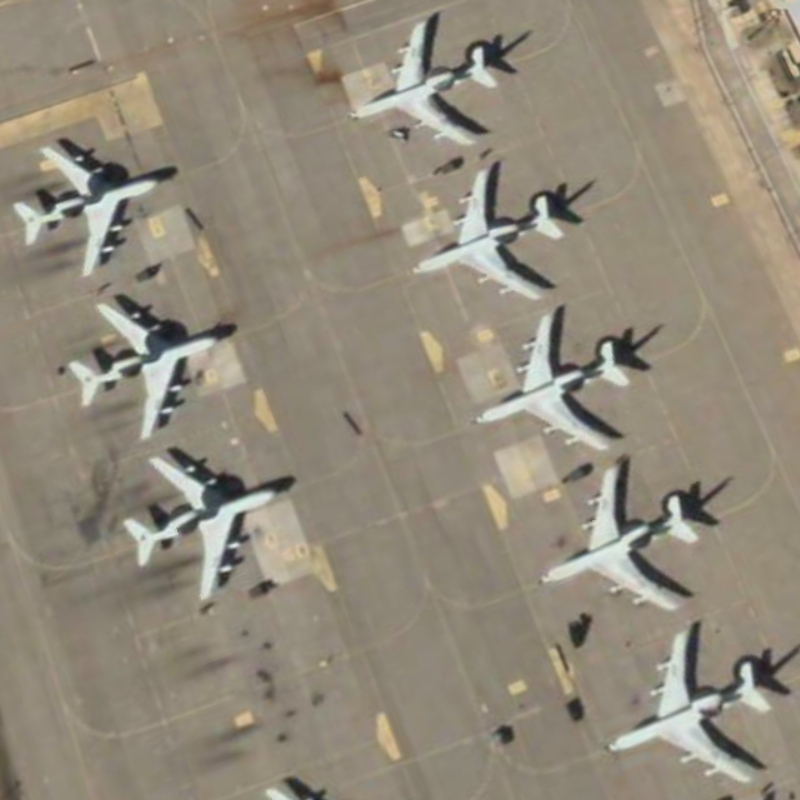A7: (590, 621, 785, 789), (114, 445, 294, 618), (533, 451, 706, 613), (459, 305, 638, 454), (406, 157, 576, 313), (65, 295, 232, 452), (341, 11, 520, 155), (11, 131, 174, 284)
